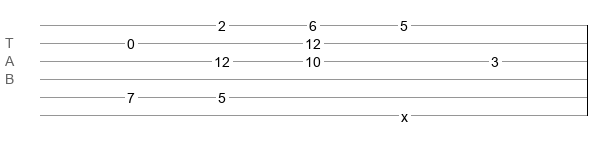0: (127, 36, 135, 46)
10: (305, 54, 321, 64)
12: (214, 54, 230, 64), (305, 36, 321, 46)
2: (218, 18, 226, 28)
3: (491, 54, 499, 64)
5: (218, 90, 226, 100), (400, 18, 408, 28)
6: (309, 18, 317, 28)
7: (127, 90, 135, 100)
x: (401, 109, 408, 117)
